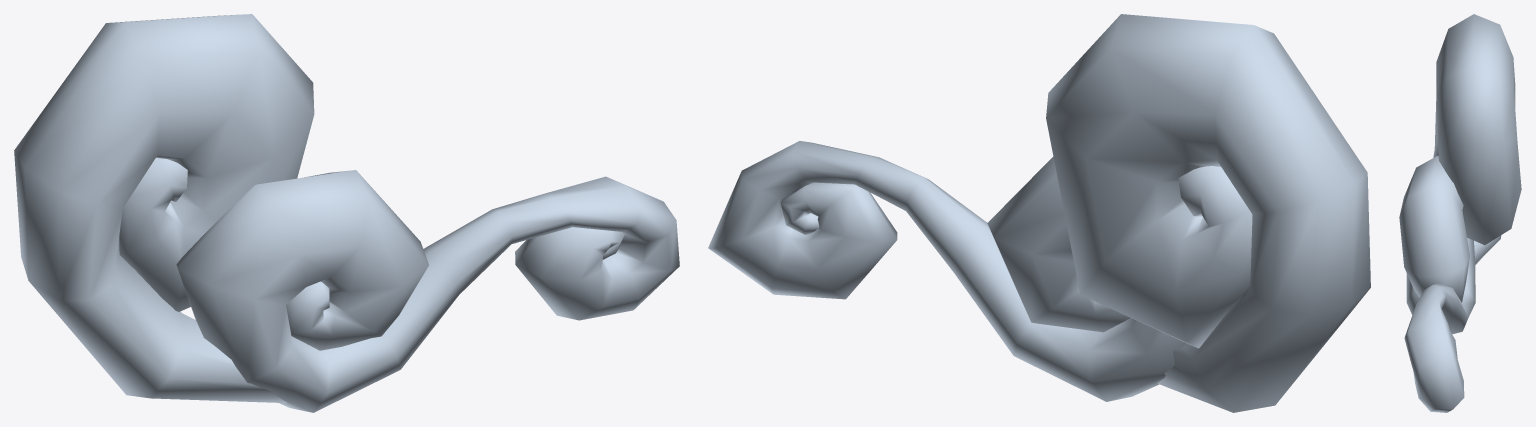
File: cloud_01.fbx
3 renders of one model, left to right at view 1: azimuth 30°, elevation 25°; view 2: azimuth 150°, elevation 25°; view 3: azimuth 270°, elevation 25°, orthographic. The views are drawn at different scales.
Parts seen in each view (by area): view 1: pCylinder3, pCylinder4; view 2: pCylinder3, pCylinder4; view 3: pCylinder3, pCylinder4.
Boxes of the visible parts, x1,y1,x2,y2 form: pCylinder3: (14,14,314,403); pCylinder4: (176,170,679,412); pCylinder3: (1046,14,1370,412); pCylinder4: (708,141,1186,401); pCylinder3: (1433,14,1521,264); pCylinder4: (1399,156,1475,412).
Bounding box in the file's own units: 606 × 372 × 158.
